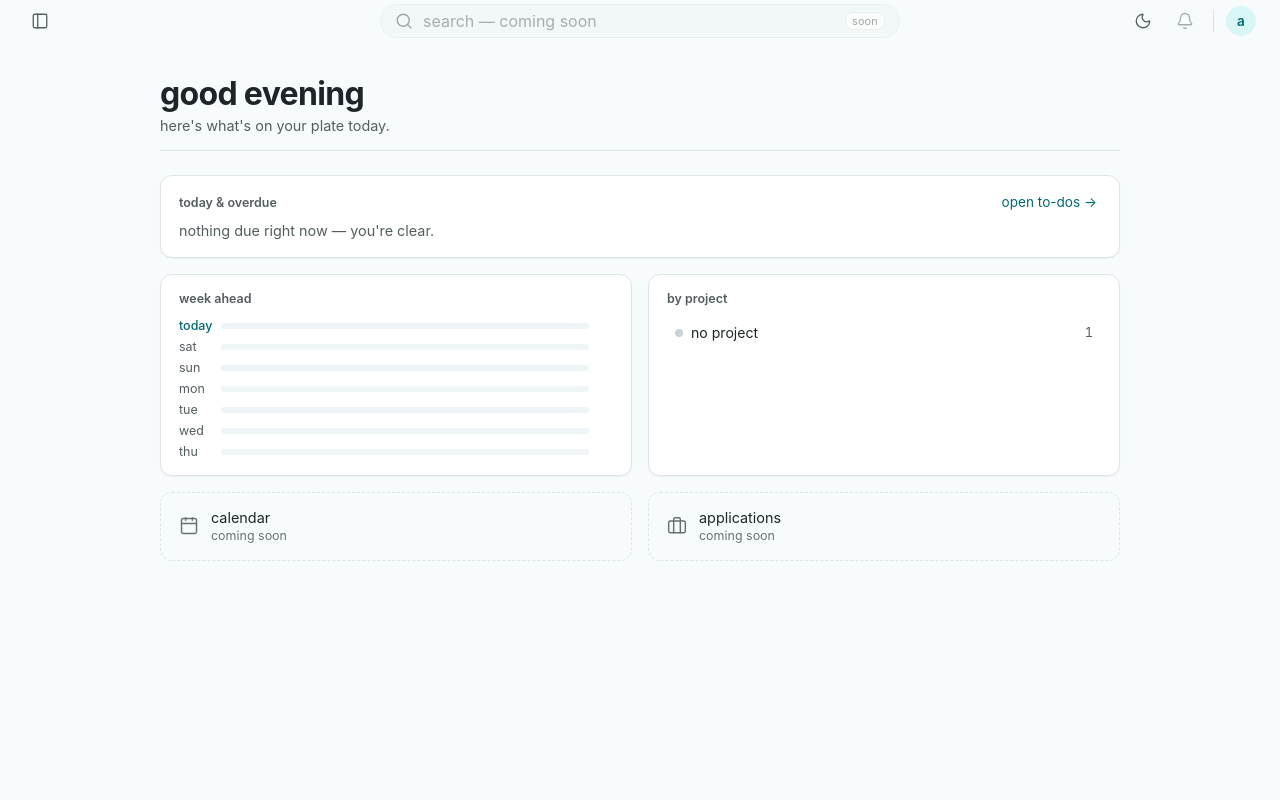
Test: TodoDashboard › edits a task param (priority) inline and optimistically
Step 1. Click the button named "toggle sidebar" → click(40, 21), box top-left (24, 5), bottom-right (56, 37)
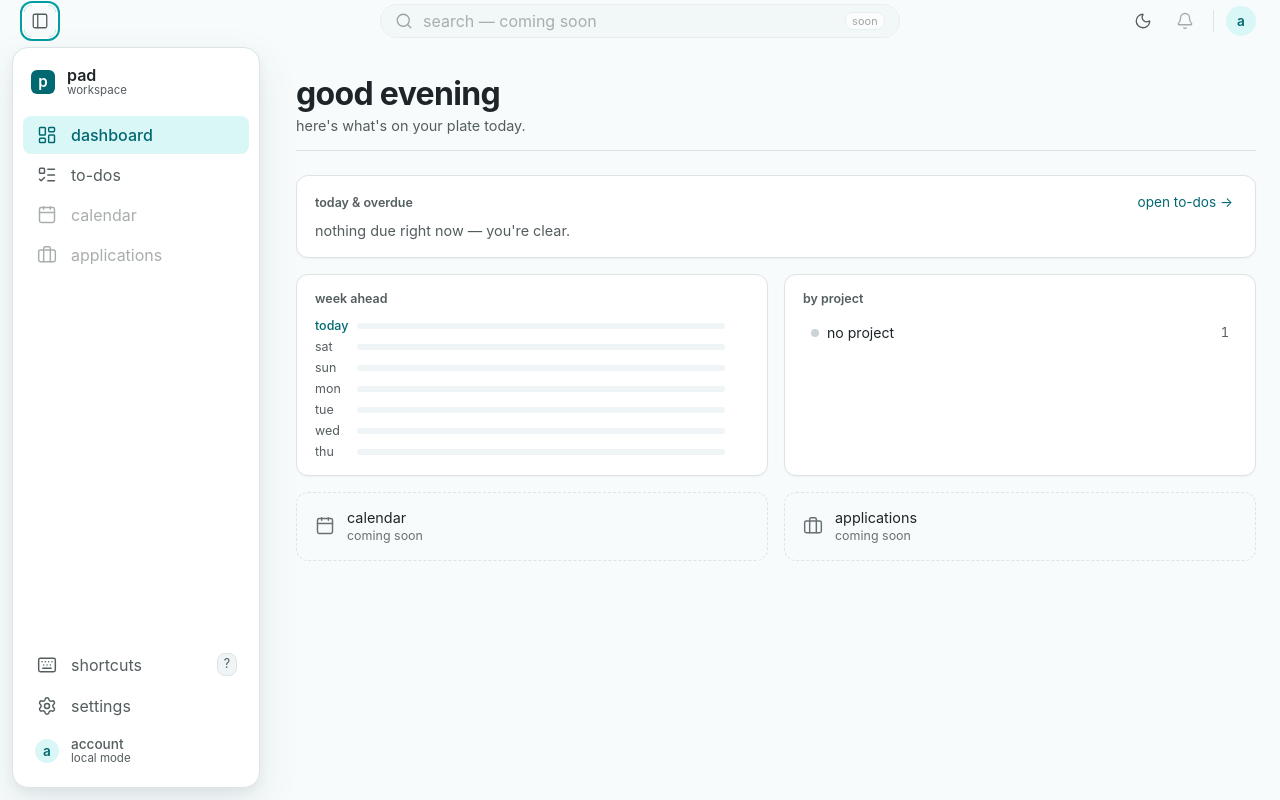
Step 2. Click the button "to-dos" → click(136, 175), box top-left (23, 156), bottom-right (249, 194)
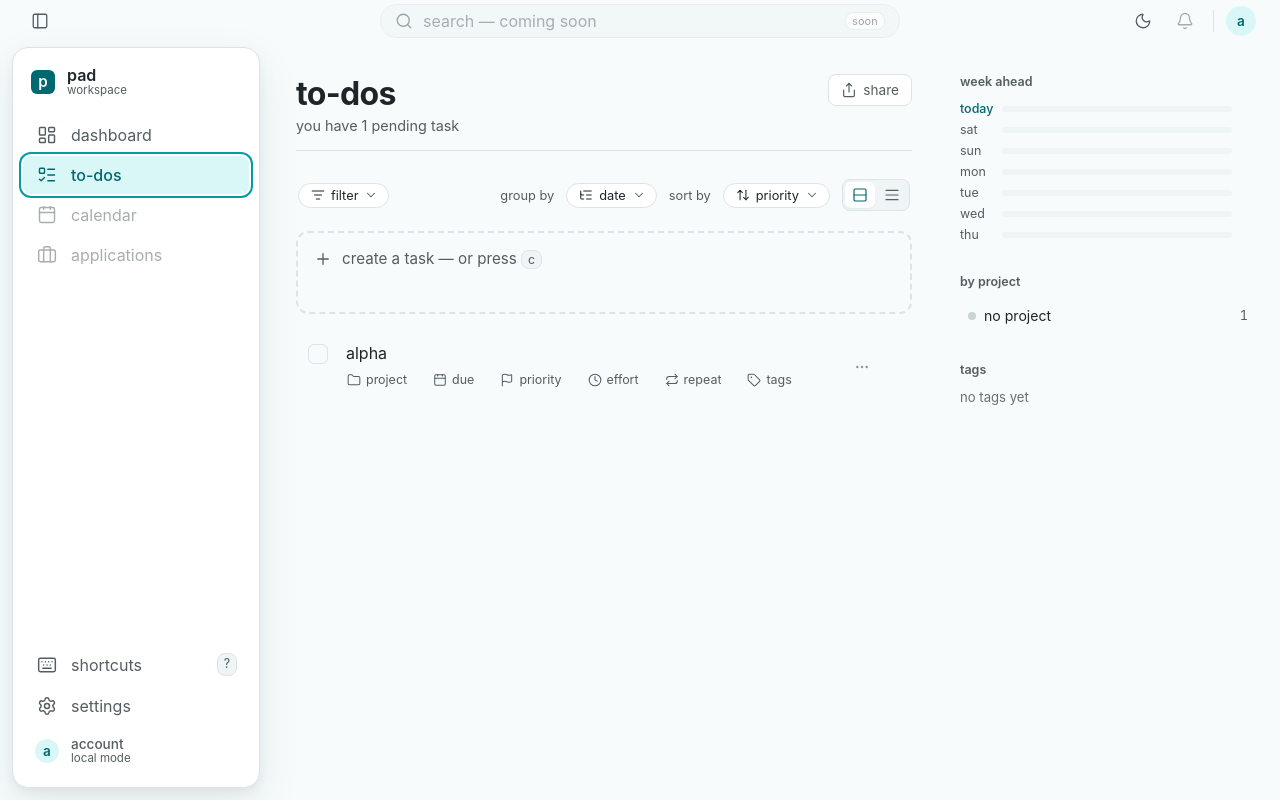
Step 3. Click the button with aria-label "set priority" → click(531, 380), box top-left (490, 369), bottom-right (572, 390)
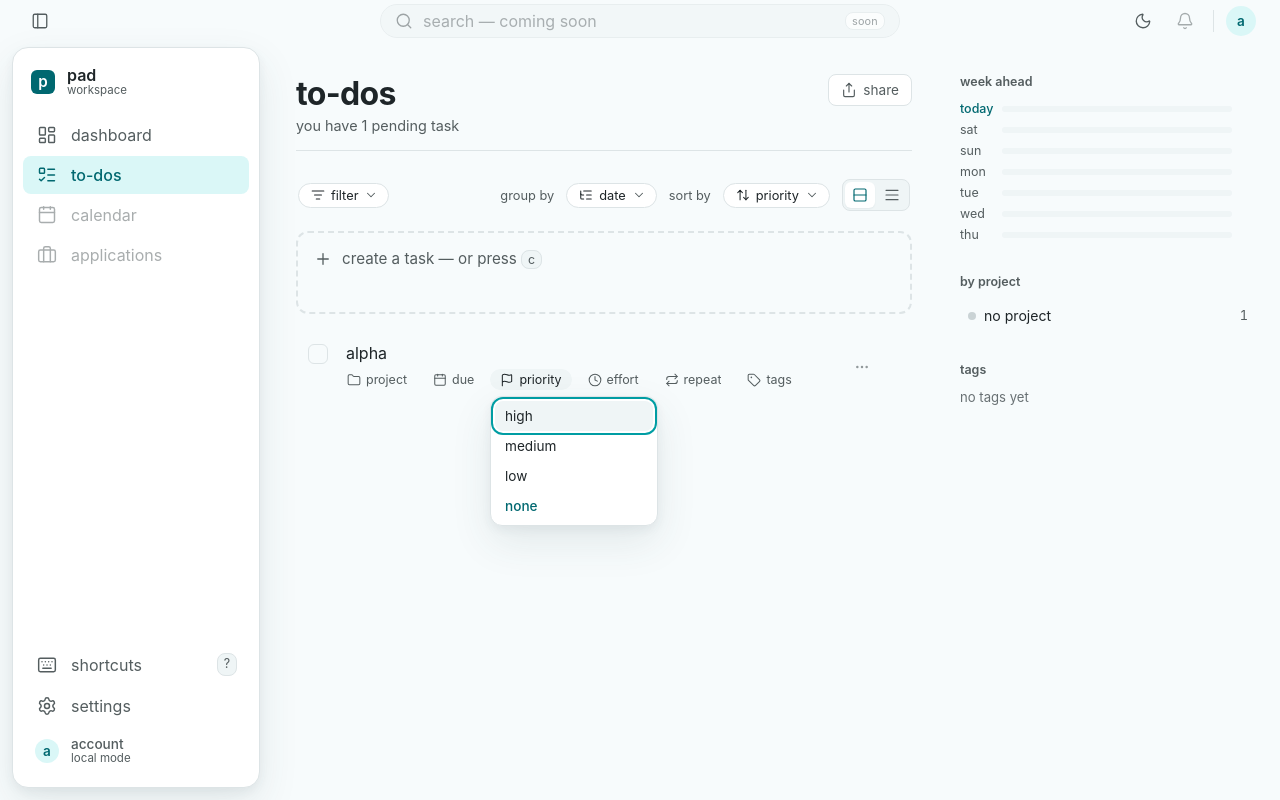
Step 4. Click the menu item "medium" → click(574, 446), box top-left (495, 431), bottom-right (653, 461)
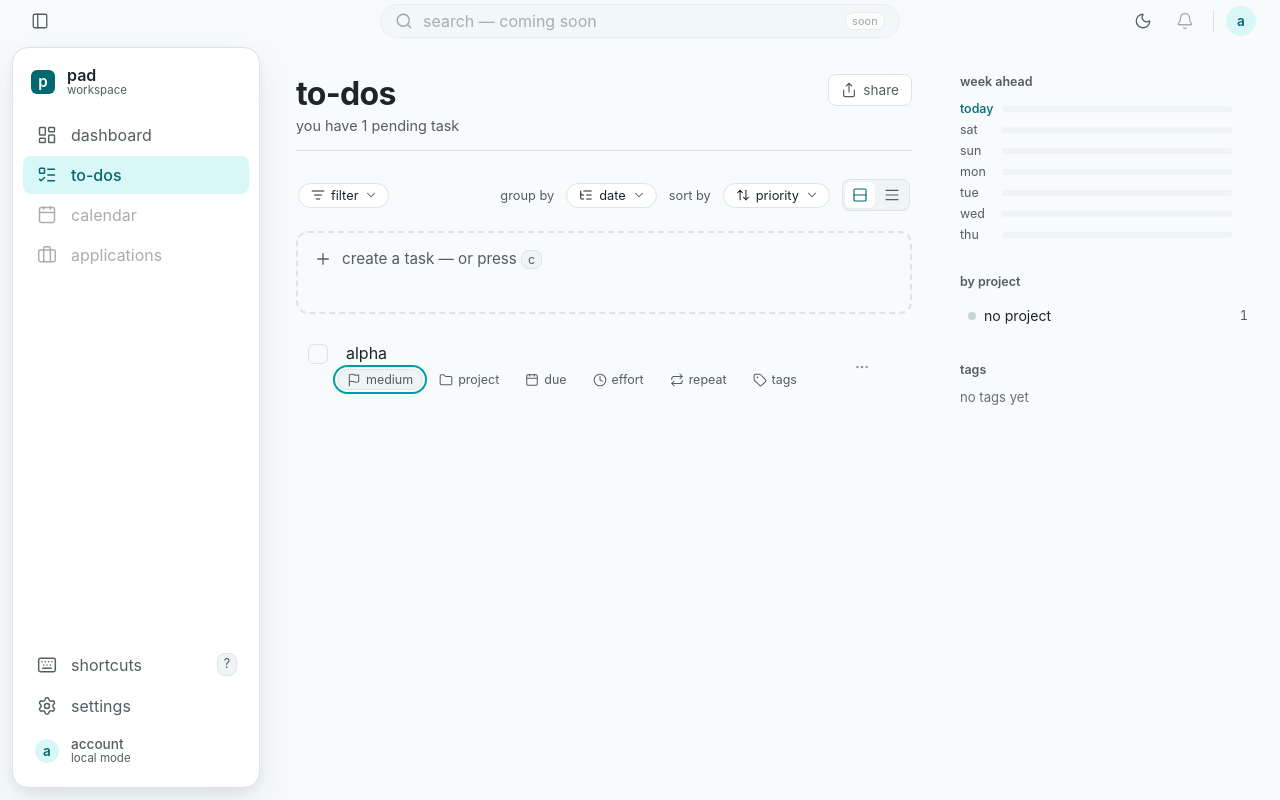
Expected: the text "medium" is shown, top-left (366, 372), bottom-right (413, 387)
